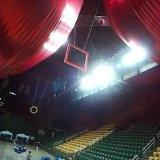Orange_Square_GShape: (64, 44, 89, 71)
Yellow_Circle_GShape: (30, 106, 38, 114)
